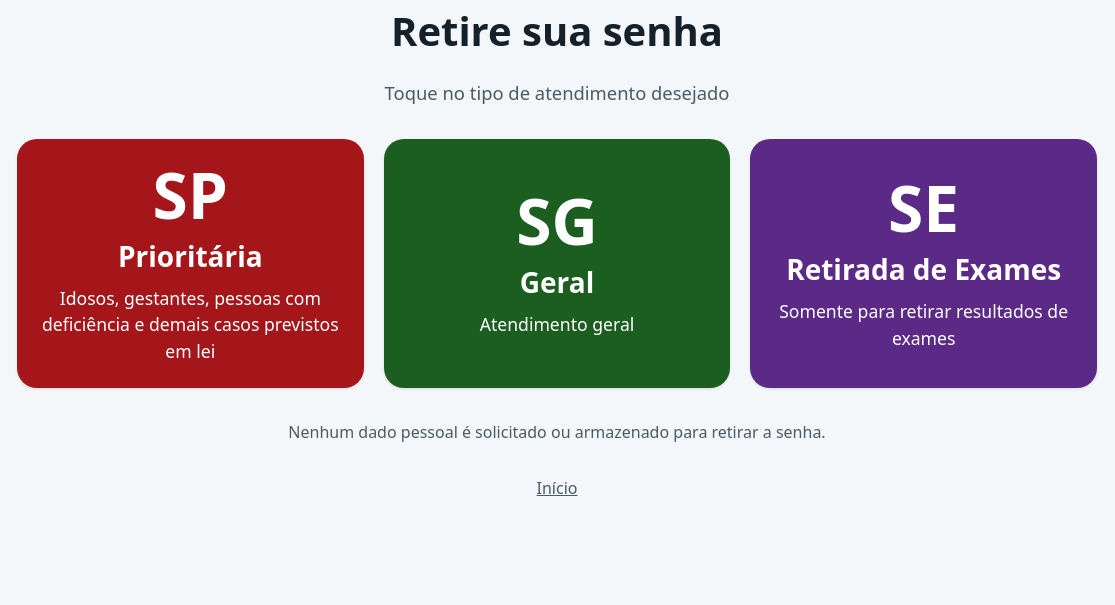
Test: Totem › mostra a mensagem do servidor fora do expediente
Click the button "Prioritária" at (190, 264), box [17, 139, 364, 388]
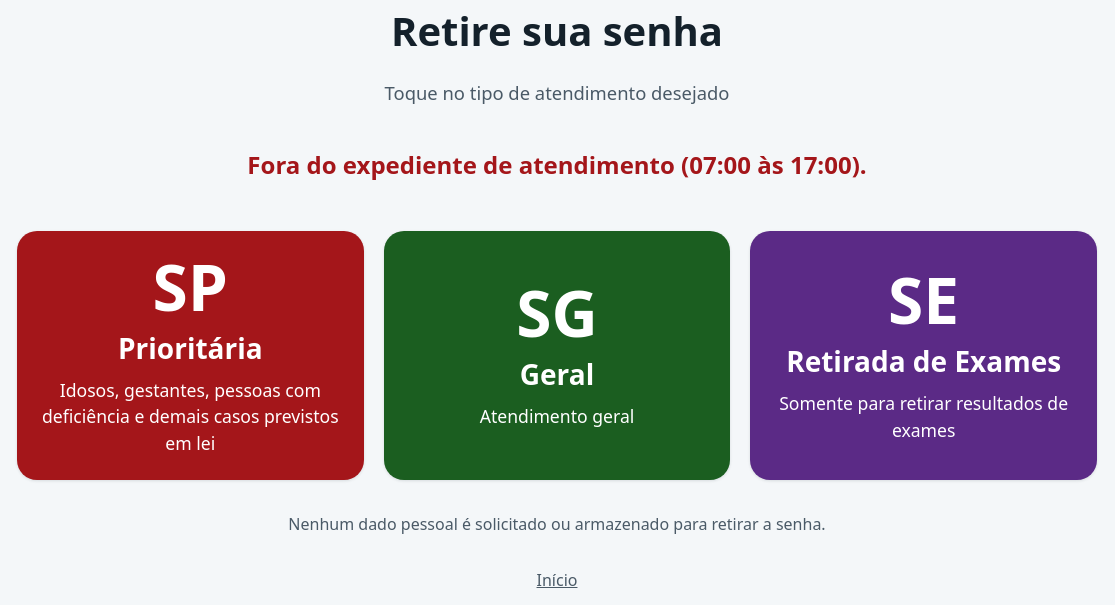
Expected: the message shows "Fora do expediente", [247, 148, 867, 181]
